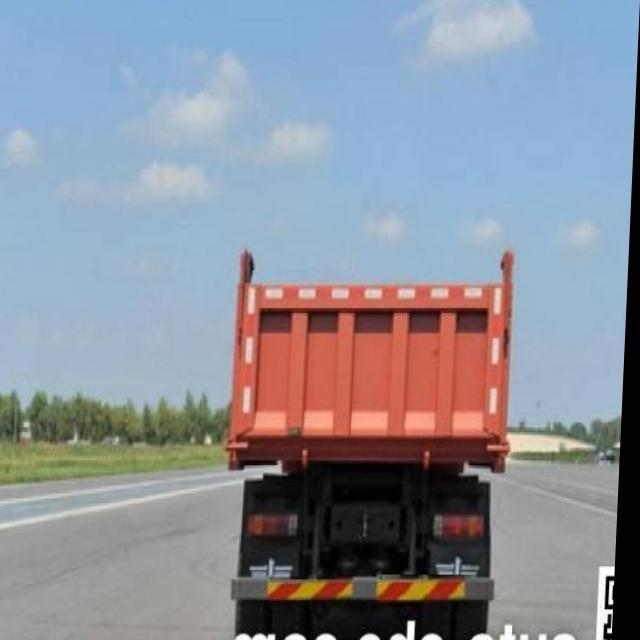uncovered: (204, 229, 532, 604)
